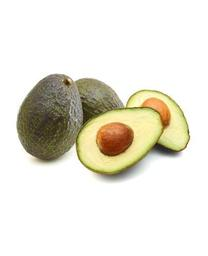avocado: (76, 107, 164, 176), (17, 73, 84, 162), (124, 90, 190, 153)
